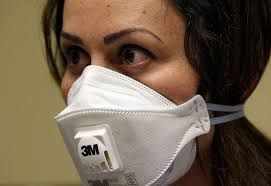with-mask: (40, 1, 218, 186)
